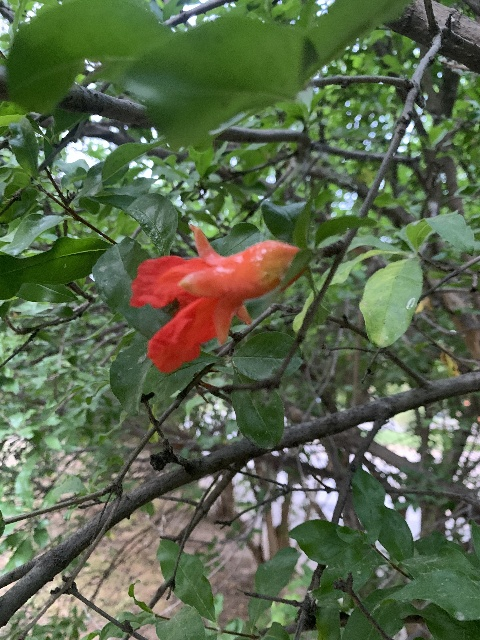flower: (126, 225, 302, 374)
